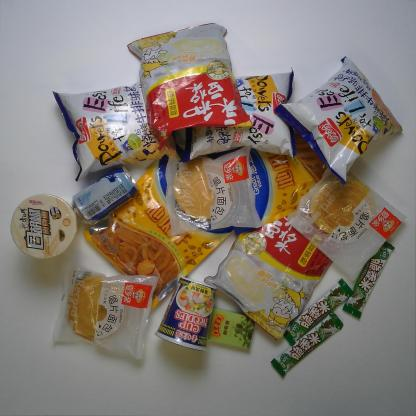Alcohol: (71, 164, 140, 226)
Candy: (208, 307, 256, 350)
Chocolate: (283, 278, 356, 348), (271, 310, 344, 378), (342, 239, 396, 320)
Dessert: (287, 163, 408, 282), (51, 262, 160, 360), (164, 144, 263, 236)
Dried Fruit: (82, 144, 246, 310), (208, 124, 350, 237)
Instant Drink: (203, 188, 338, 342), (126, 22, 254, 152)
Instant Noodles: (154, 276, 218, 352), (10, 192, 78, 260)
Puffed Food: (274, 56, 403, 186), (52, 76, 190, 182), (180, 67, 298, 163)
